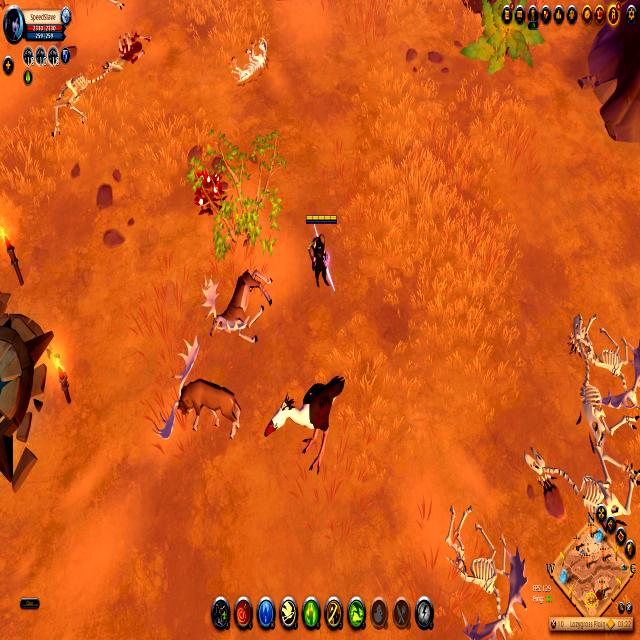hide: (189, 162, 228, 218)
mob: (205, 259, 272, 341)
ore: (148, 338, 247, 443), (263, 368, 345, 483)
red: (305, 211, 337, 292)
